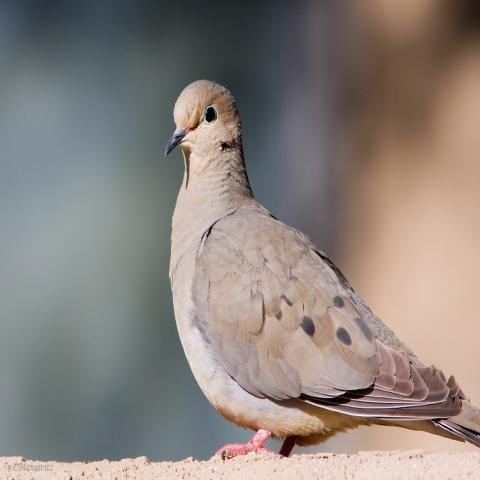bird: (160, 76, 478, 462)
